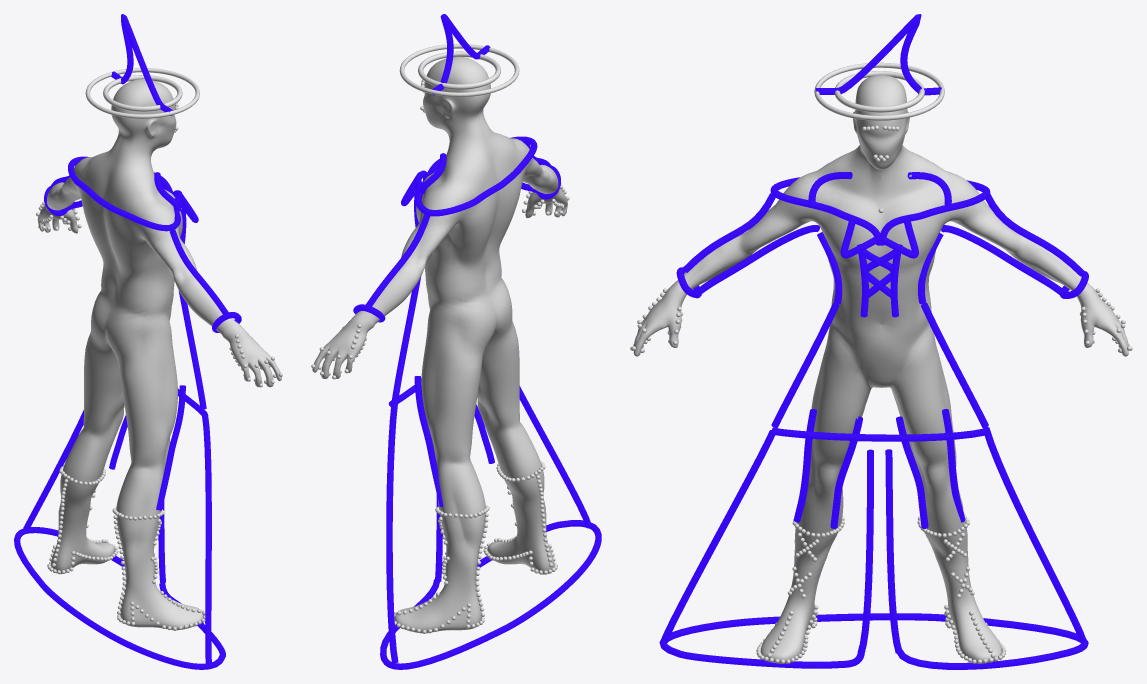
File: main_character.glb
The picture shows the model from 3 angles, left to right: view 1: azimuth 30°, elevation 25°; view 2: azimuth 150°, elevation 25°; view 3: azimuth 270°, elevation 25°; orthographic projection. The views are drawn at different scales.
Parts seen in each view (by area): view 1: Human, bottom_thin_cloth, outer_right_thin_cloth, collar, outer_hat, top_hat, outer_right_pants, inner_hat, outer_left_thin_cloth, right_skirt, outer_right_arm, inner_right_thin_cloth; view 2: Human, bottom_thin_cloth, outer_left_thin_cloth, collar, outer_hat, outer_right_thin_cloth, inner_hat, top_hat, outer_left_pants, left_skirt, outer_left_arm, inner_left_thin_cloth; view 3: Human, bottom_thin_cloth, collar, outer_left_thin_cloth, outer_right_thin_cloth, bottom_skirt, top_hat, inner_left_thin_cloth, inner_right_thin_cloth, outer_hat, right_skirt, left_skirt (+9 smaller).
Part boxes in pixels (x1,y1,x2,y2): Human: (37, 79, 281, 630); bottom_thin_cloth: (14, 527, 225, 669); outer_right_thin_cloth: (202, 414, 211, 668); collar: (68, 156, 182, 231); outer_hat: (85, 68, 199, 118); top_hat: (111, 14, 173, 115); outer_right_pants: (156, 385, 185, 510); inner_hat: (103, 75, 182, 111); outer_left_thin_cloth: (23, 410, 83, 530); right_skirt: (178, 291, 206, 409); outer_right_arm: (169, 229, 228, 314); inner_right_thin_cloth: (158, 501, 165, 583); Human: (312, 56, 567, 633); bottom_thin_cloth: (380, 520, 601, 669); outer_left_thin_cloth: (386, 402, 398, 663); collar: (415, 136, 537, 216); outer_hat: (399, 44, 519, 97); outer_right_thin_cloth: (519, 386, 590, 528); inner_hat: (418, 51, 500, 89); top_hat: (432, 14, 490, 95); outer_left_pants: (414, 376, 443, 506); left_skirt: (391, 276, 421, 401); outer_left_arm: (366, 213, 430, 306); inner_left_thin_cloth: (435, 494, 442, 581); Human: (633, 75, 1128, 663); bottom_thin_cloth: (660, 613, 1088, 669); collar: (770, 177, 990, 245); outer_left_thin_cloth: (983, 427, 1086, 642); outer_right_thin_cloth: (659, 430, 775, 643); bottom_skirt: (771, 427, 986, 441); top_hat: (815, 14, 941, 95); inner_left_thin_cloth: (885, 449, 902, 653); inner_right_thin_cloth: (857, 449, 873, 655); outer_hat: (814, 62, 944, 120); right_skirt: (771, 302, 839, 428); left_skirt: (921, 302, 988, 428).
Bounding box in the file's own units: 0.4632 × 1.98 × 1.4.
